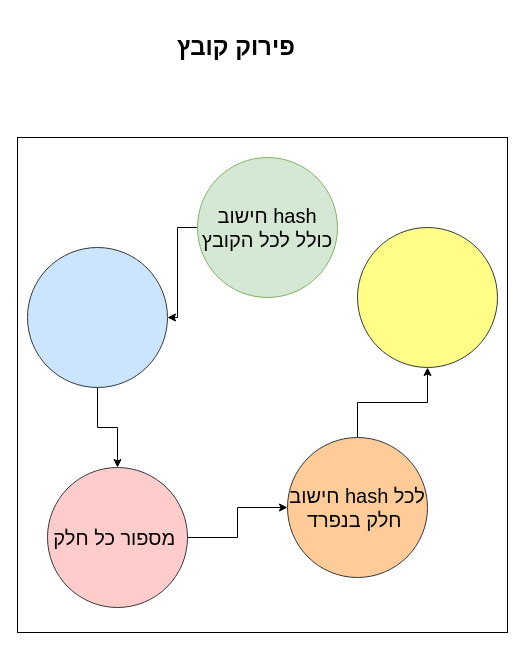
This 525x650 diagram has some shape labels left out. The centre of each missing label's shape, as x and y in pixels:
"הצפנת כל חלק" belongs at pixel 427 297.
"פירוק הקובץ לחלקים שווים" belongs at pixel 97 317.
